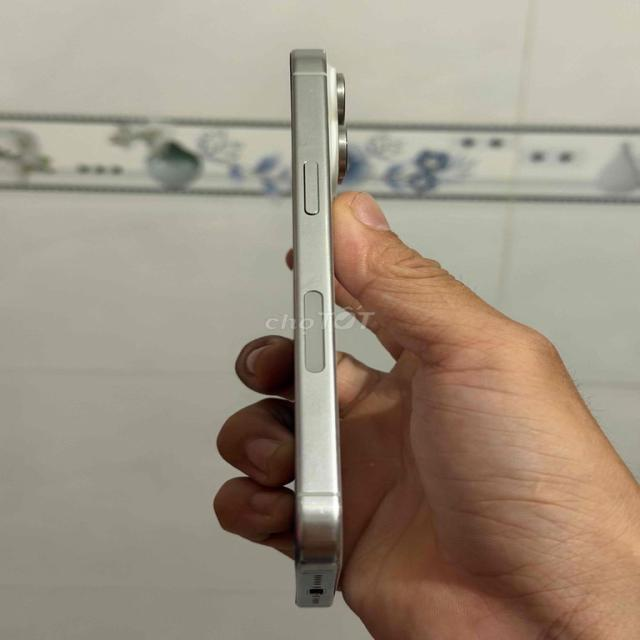gen_15: (247, 33, 388, 622)
